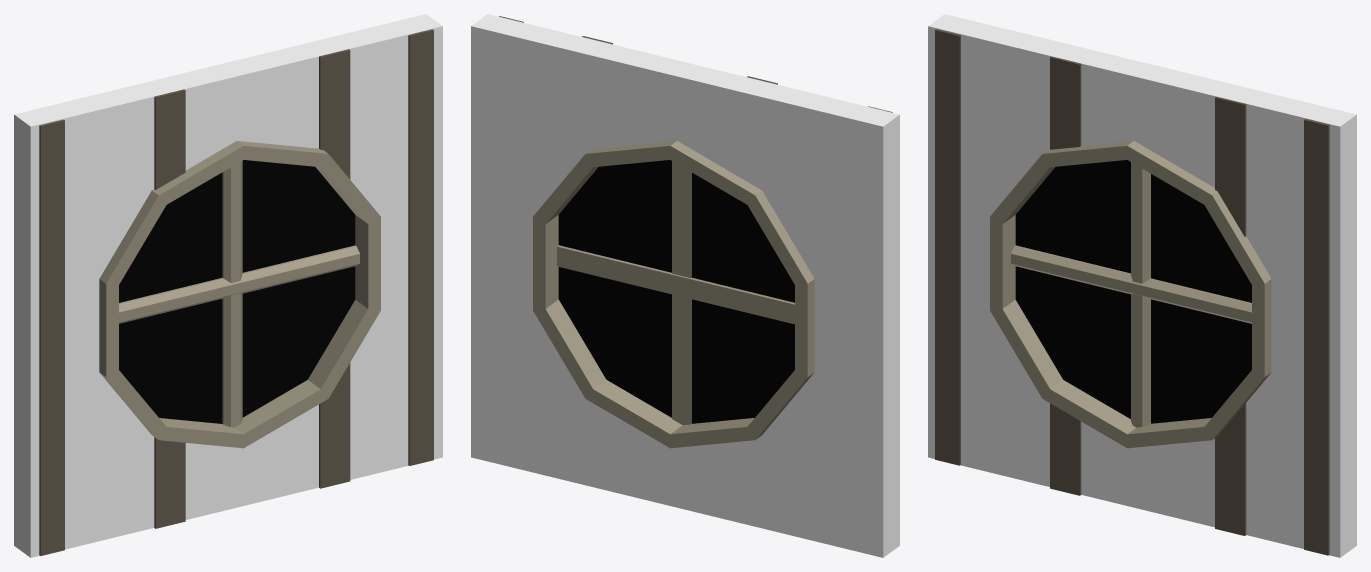
Rendered from _ROOF_Window_round_1.fbx.
The picture shows the model from 3 angles, left to right: view 1: azimuth 30°, elevation 25°; view 2: azimuth 150°, elevation 25°; view 3: azimuth 330°, elevation 25°; orthographic projection.
Visible parts, largest first — view 1: ROOF_Window_round_1; view 2: ROOF_Window_round_1; view 3: ROOF_Window_round_1.
Boxes of the visible parts, x1,y1,x2,y2 form: ROOF_Window_round_1: [14, 14, 442, 557]; ROOF_Window_round_1: [471, 14, 899, 557]; ROOF_Window_round_1: [928, 14, 1356, 557].
Size of the model in its own units: 100 by 100 by 12.75.
